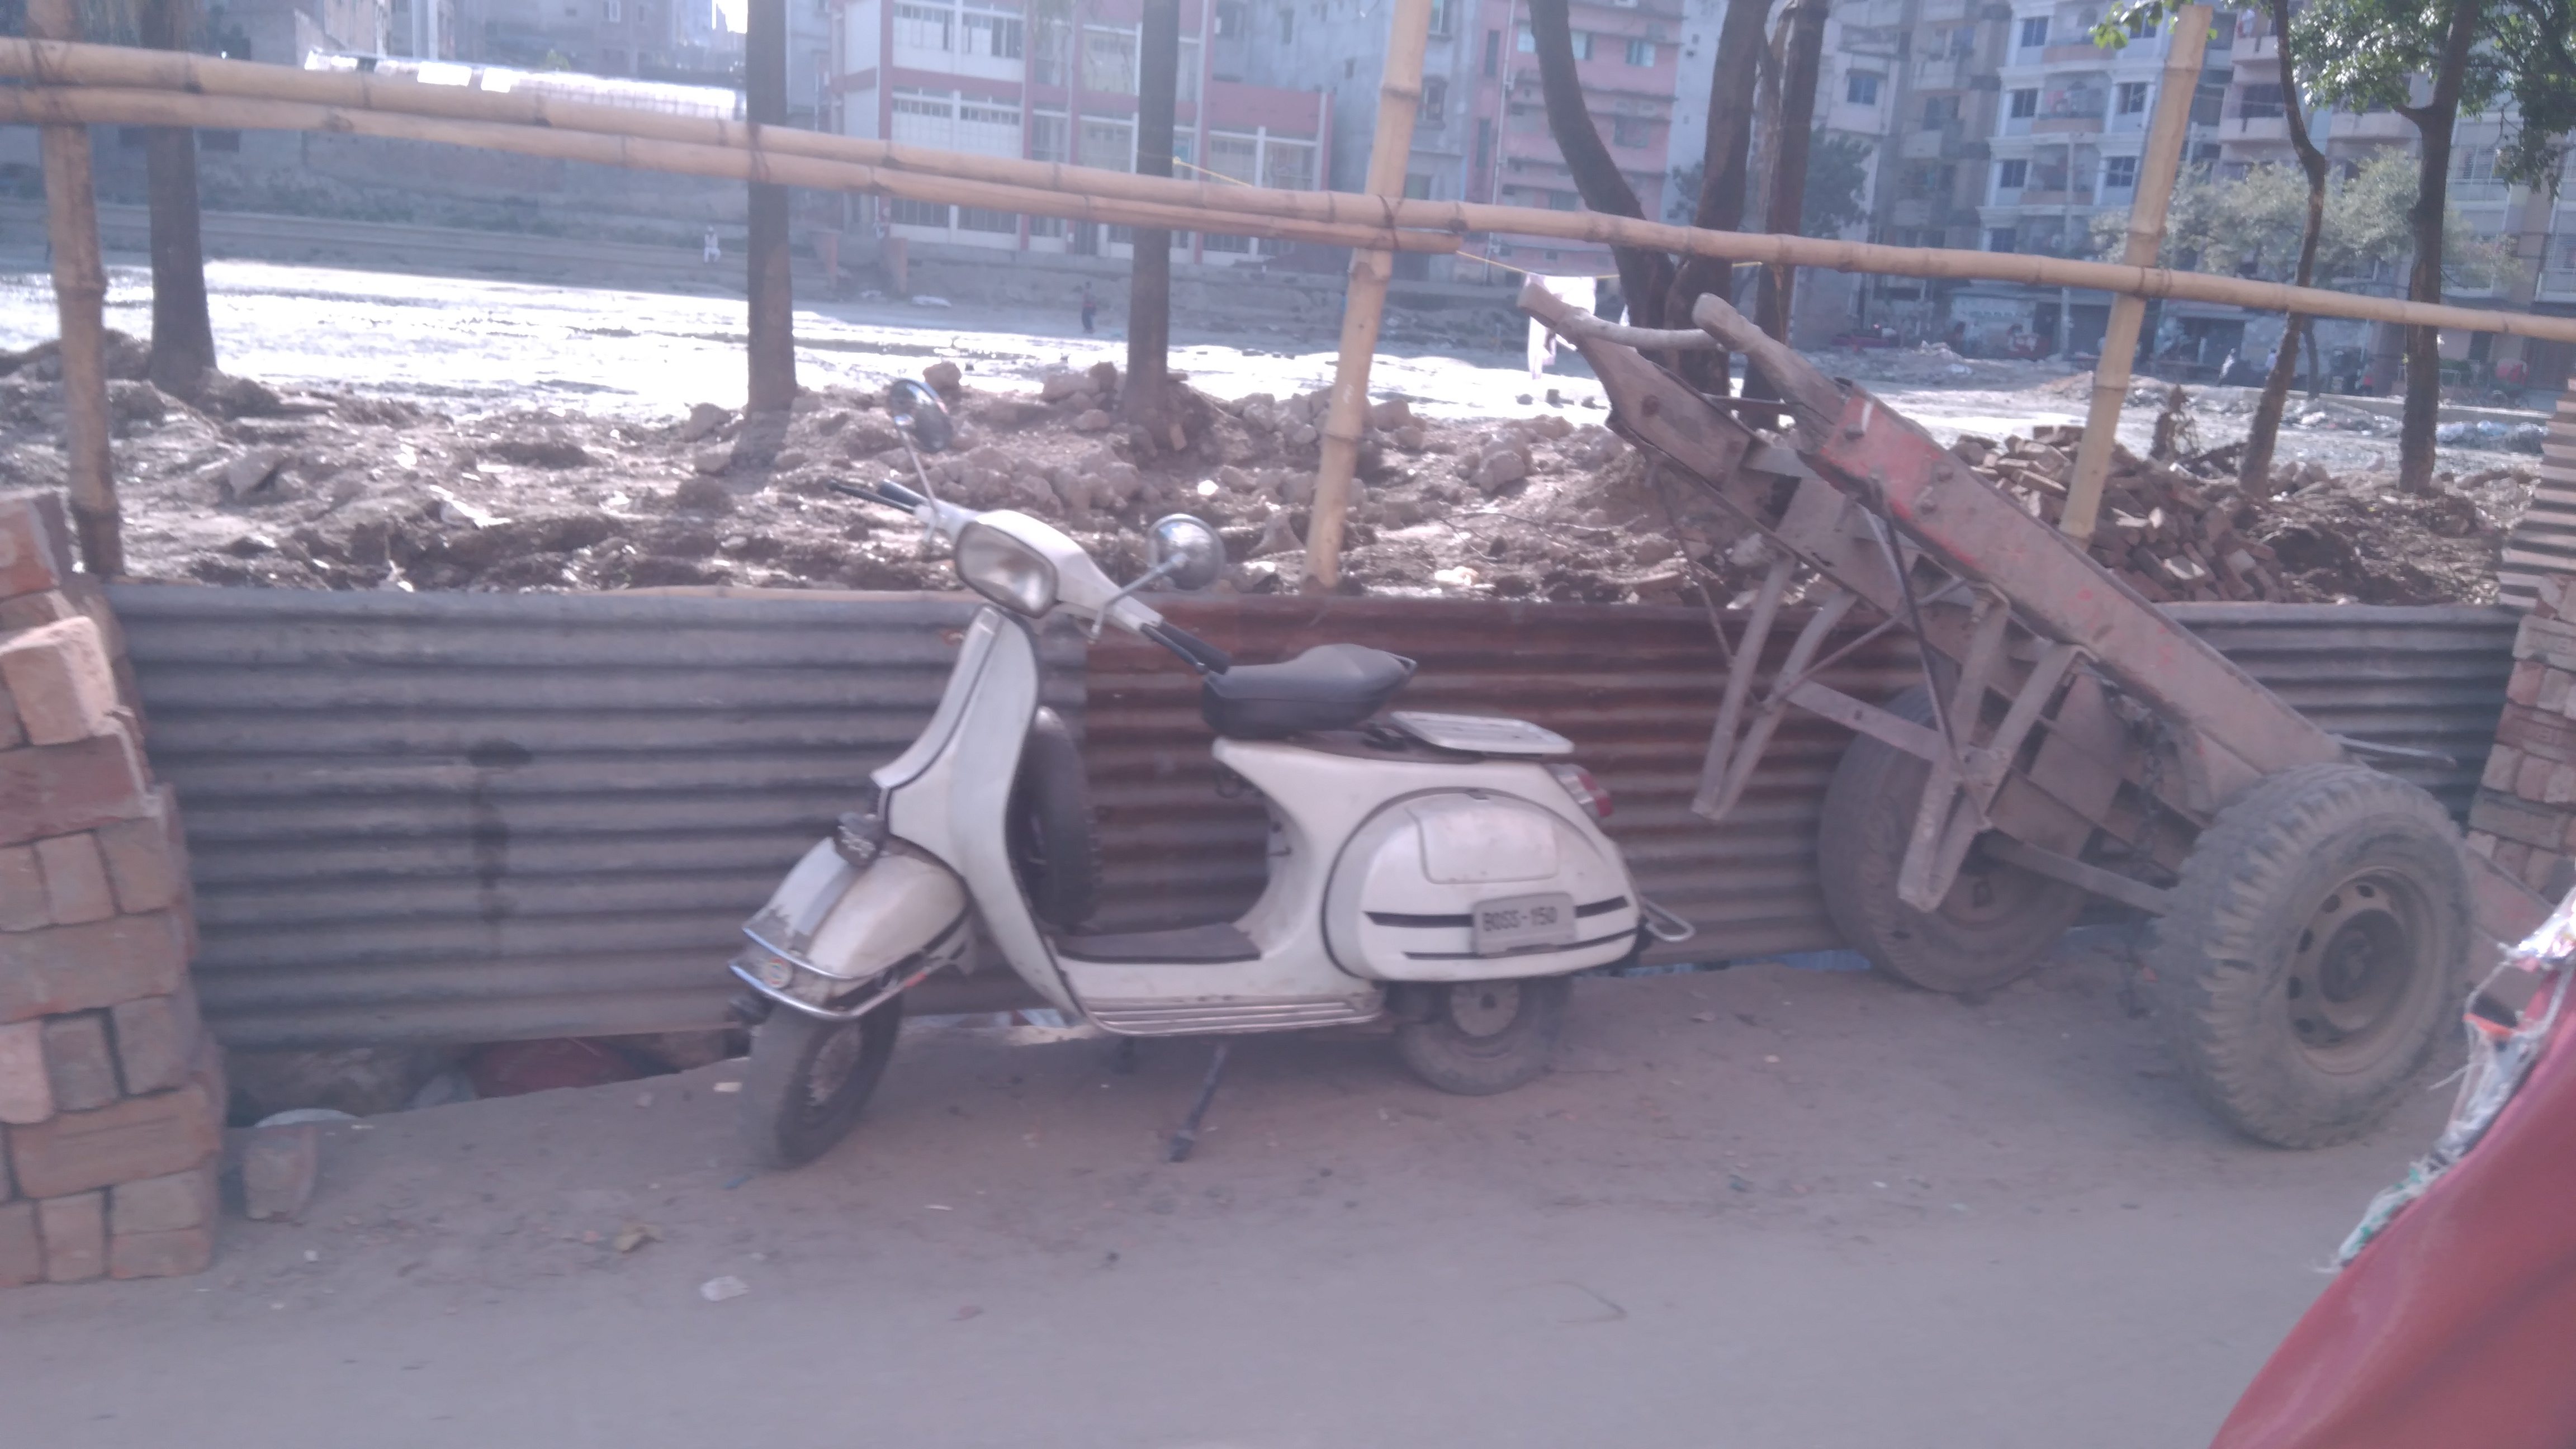bike: (702, 433, 1706, 1184)
wheelbarrow: (1499, 253, 2576, 1171)
